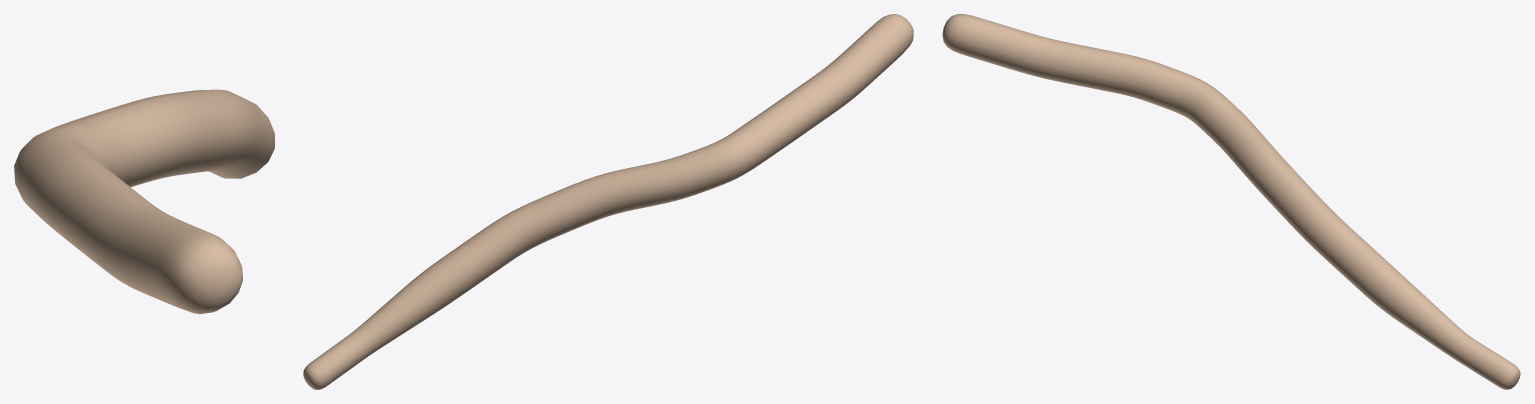
3 views of the same model, side by side, from view 1: azimuth 30°, elevation 25°; view 2: azimuth 150°, elevation 25°; view 3: azimuth 270°, elevation 25° (orthographic). The views are drawn at different scales.
Parts seen in each view (by area): view 1: 左侧拇长屈肌腱鞘; view 2: 左侧拇长屈肌腱鞘; view 3: 左侧拇长屈肌腱鞘.
Part boxes in pixels (x1,y1,x2,y2): 左侧拇长屈肌腱鞘: (14,89,274,314); 左侧拇长屈肌腱鞘: (303,14,913,389); 左侧拇长屈肌腱鞘: (942,14,1520,389).
Size of the model in its own units: 0.0805 by 0.0564 by 0.1272.
